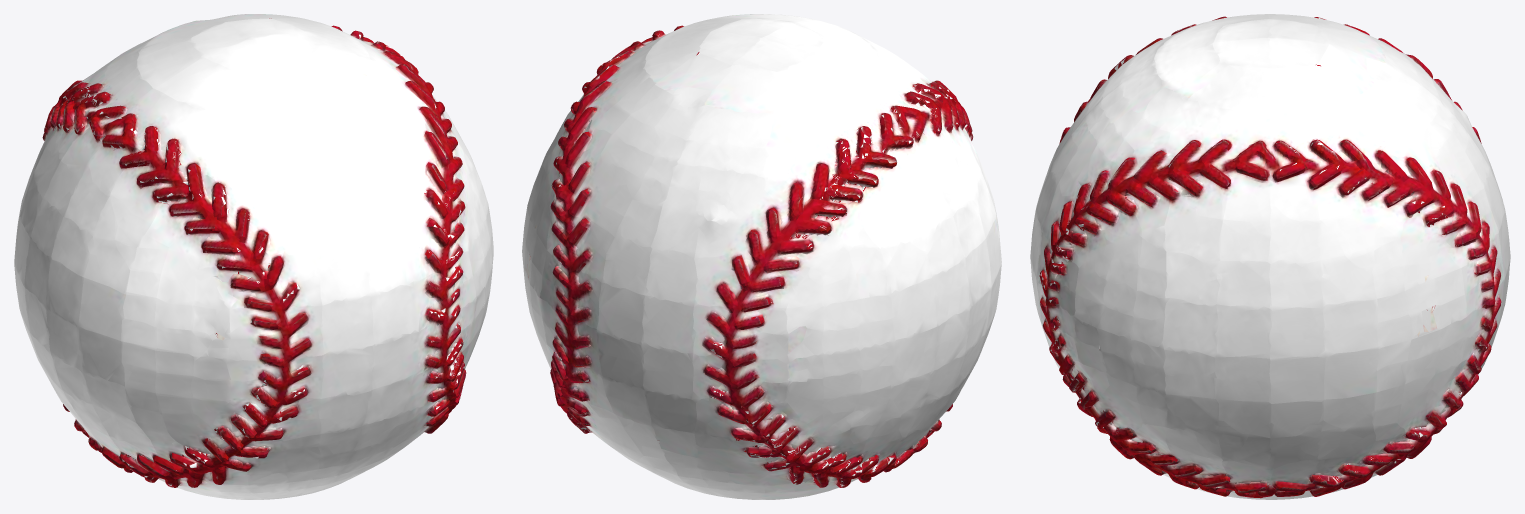
The picture shows the model from 3 angles, left to right: view 1: azimuth 30°, elevation 25°; view 2: azimuth 150°, elevation 25°; view 3: azimuth 270°, elevation 25°; orthographic projection.
Parts seen in each view (by area): view 1: Mesh_0; view 2: Mesh_0; view 3: Mesh_0.
Part boxes in pixels (bbox=[...]): Mesh_0: bbox=[14, 14, 493, 499]; Mesh_0: bbox=[522, 14, 1001, 499]; Mesh_0: bbox=[1030, 14, 1510, 499].
Size of the model in its own units: 1.9 by 1.91 by 1.9.
1 material, 1 textured.
